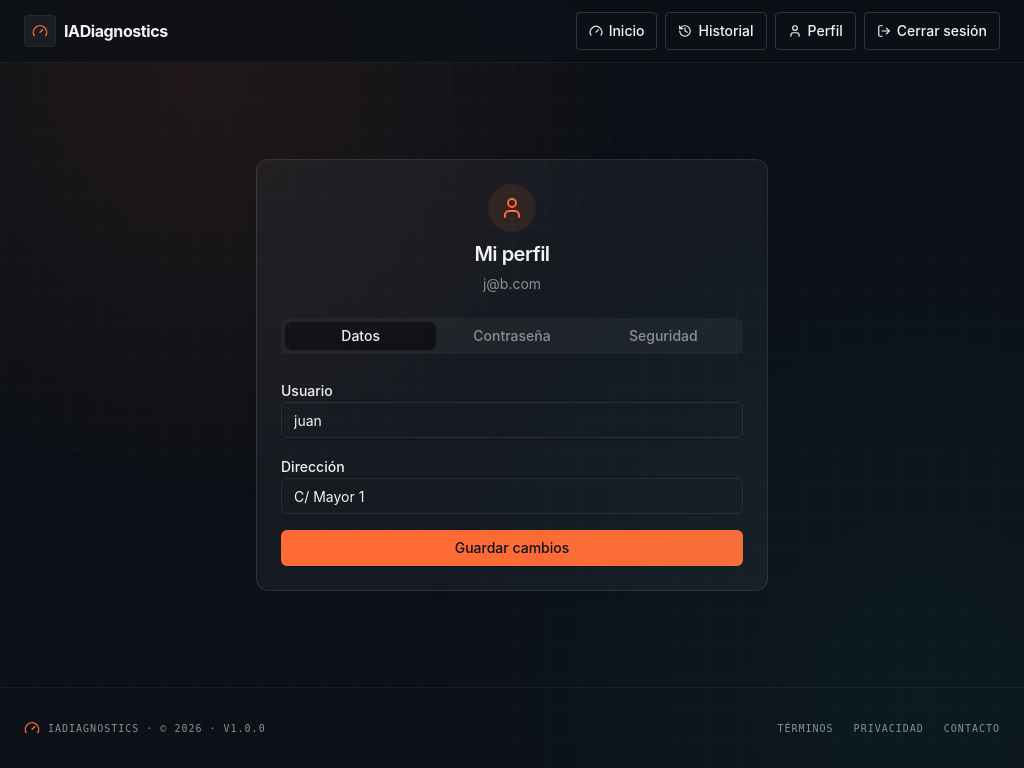
Scenario: ProfilePage — pestaña Seguridad › ofrece activar el segundo factor cuando no lo tiene
Press the mouse on the tab "Seguridad" at (663, 336), box x1=588 y1=322 x2=739 y2=350
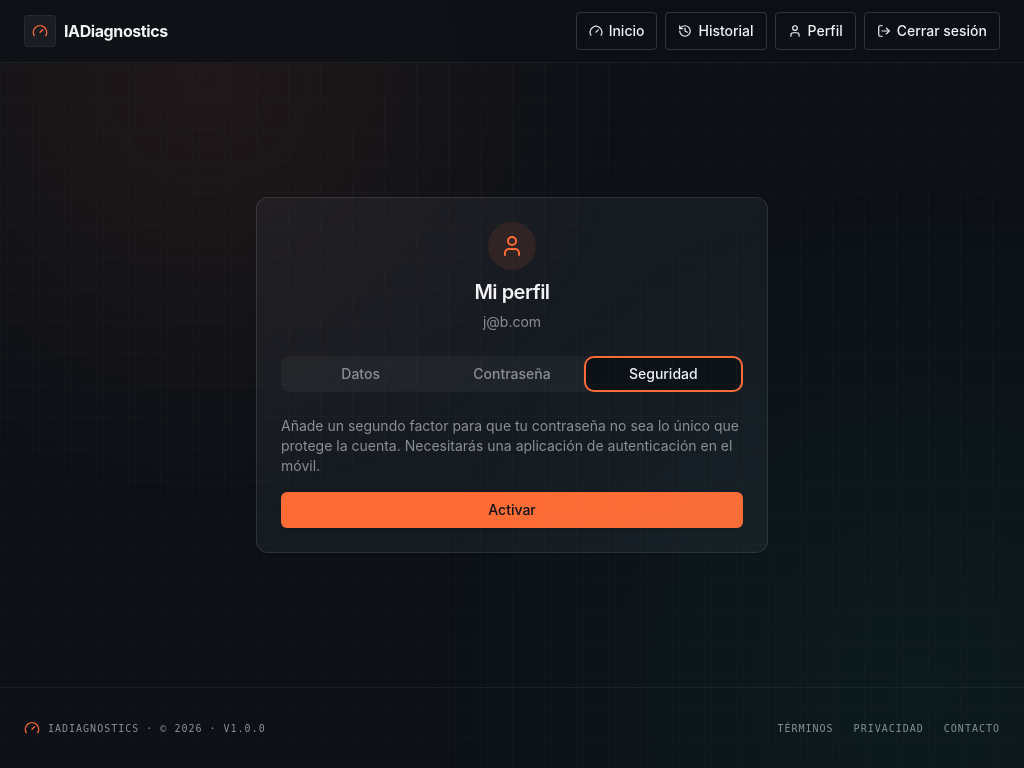
Expected: the button "Activar" is shown, x1=281 y1=492 x2=743 y2=528
